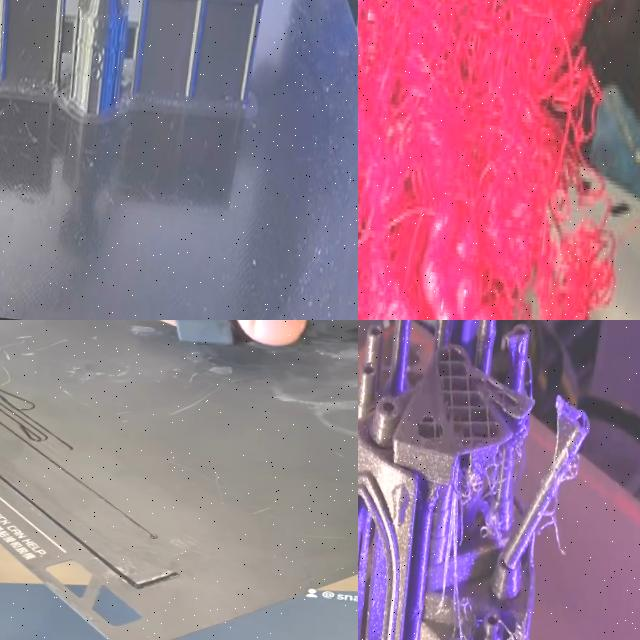spaghetti: (358, 0, 616, 320), (441, 431, 526, 553), (532, 446, 588, 562), (500, 613, 547, 640)
